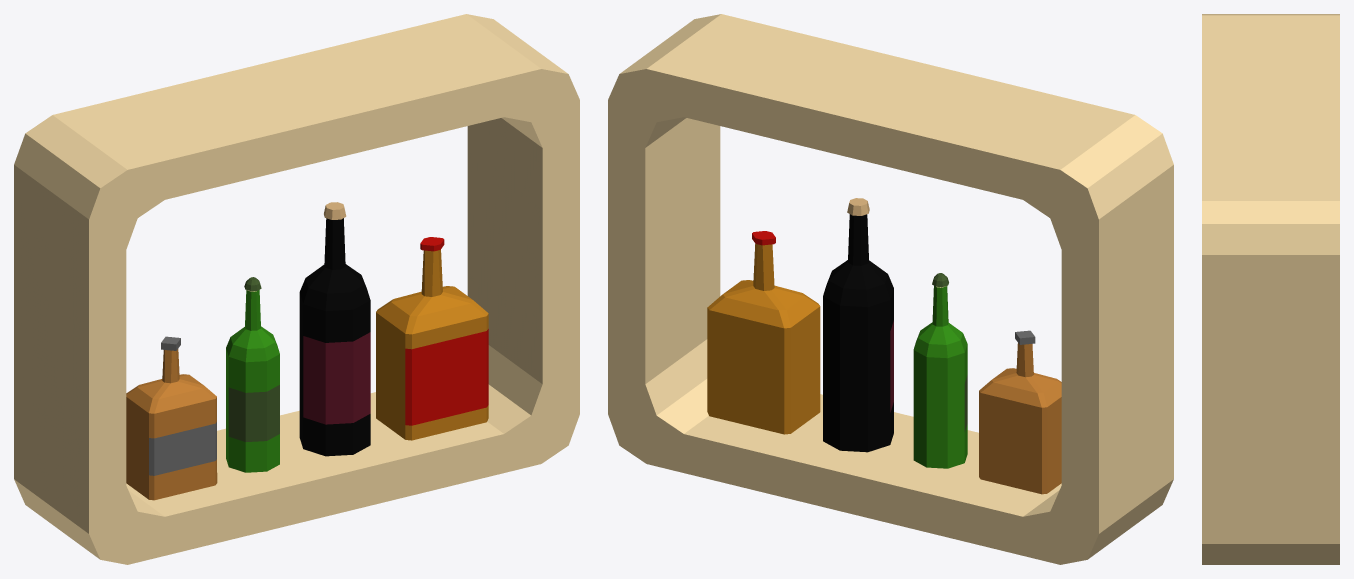
The model's file is C_Drinks_2.fbx.
3 renders of one model, left to right at view 1: azimuth 30°, elevation 25°; view 2: azimuth 150°, elevation 25°; view 3: azimuth 270°, elevation 25°, orthographic. The views are drawn at different scales.
Visible parts, largest first — view 1: C_Drinks_2; view 2: C_Drinks_2; view 3: C_Drinks_2.
Part boxes in pixels (bbox=[...]): C_Drinks_2: bbox=[14, 14, 579, 564]; C_Drinks_2: bbox=[608, 14, 1173, 564]; C_Drinks_2: bbox=[1202, 14, 1339, 564].
Bounding box in the file's own units: 665 × 176 × 511.
